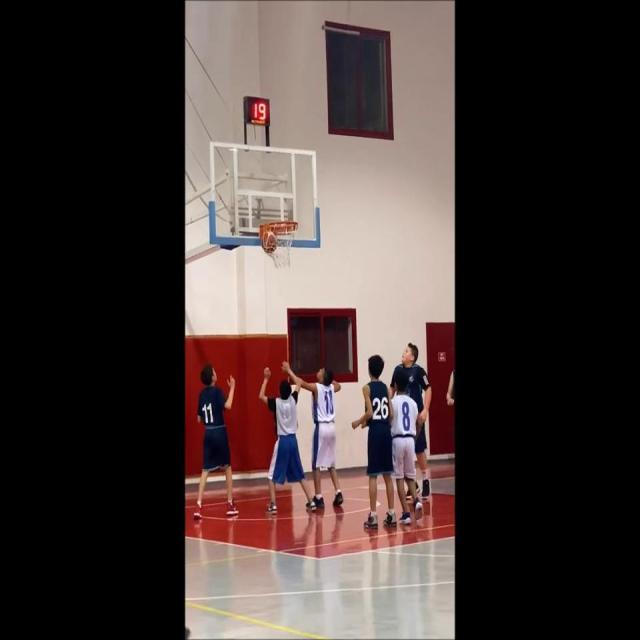basketball: (261, 230, 278, 254)
hoop: (260, 219, 298, 272), (260, 220, 298, 272)
